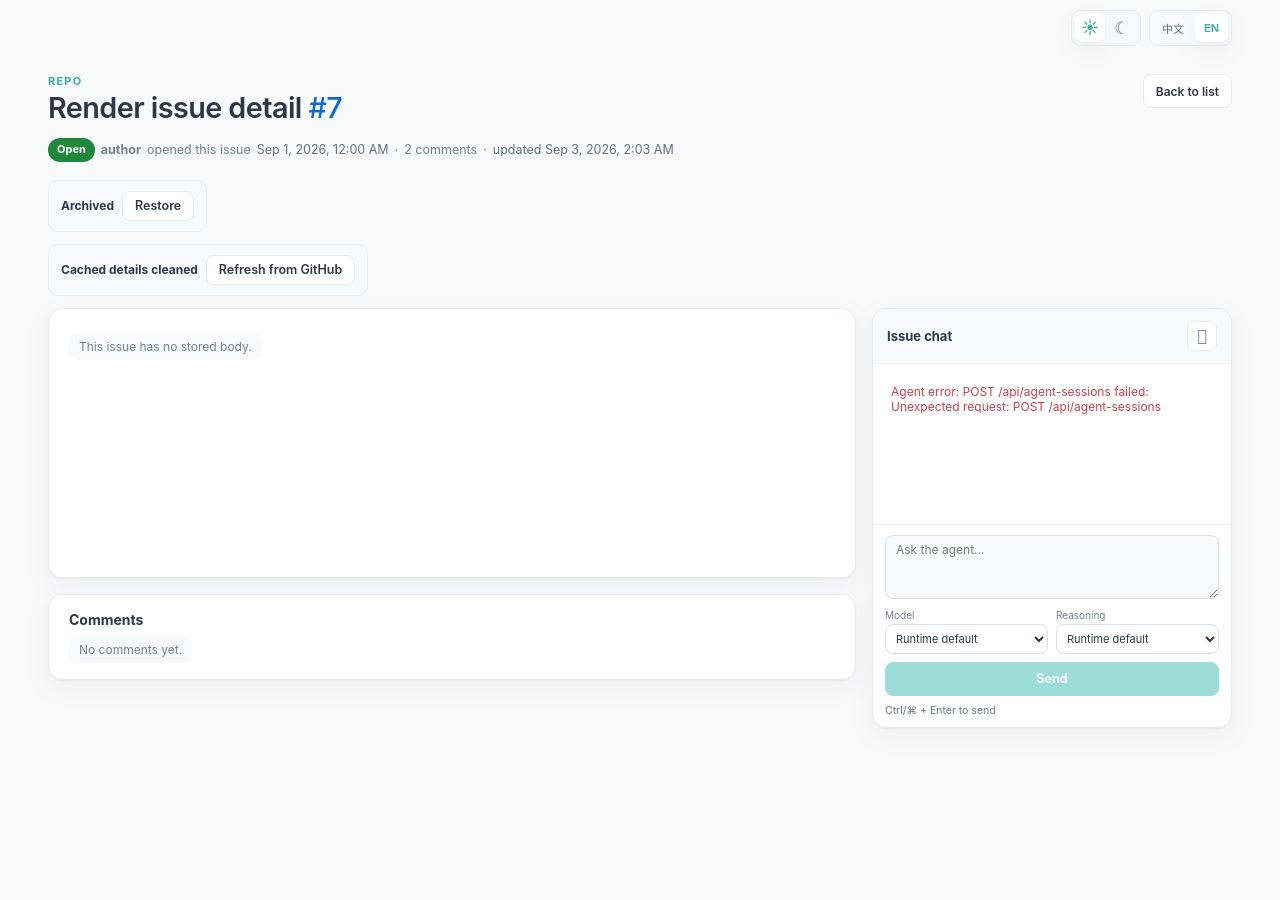
Test: Issue detail page › keeps archive and cleaned-payload actions independent
Expected: the heading "Render issue detail #7" is shown, [48, 90, 342, 125]
Expected: the text "Archived" is shown, [61, 198, 114, 214]
Click the button "Restore" at (158, 206), box [122, 191, 194, 221]
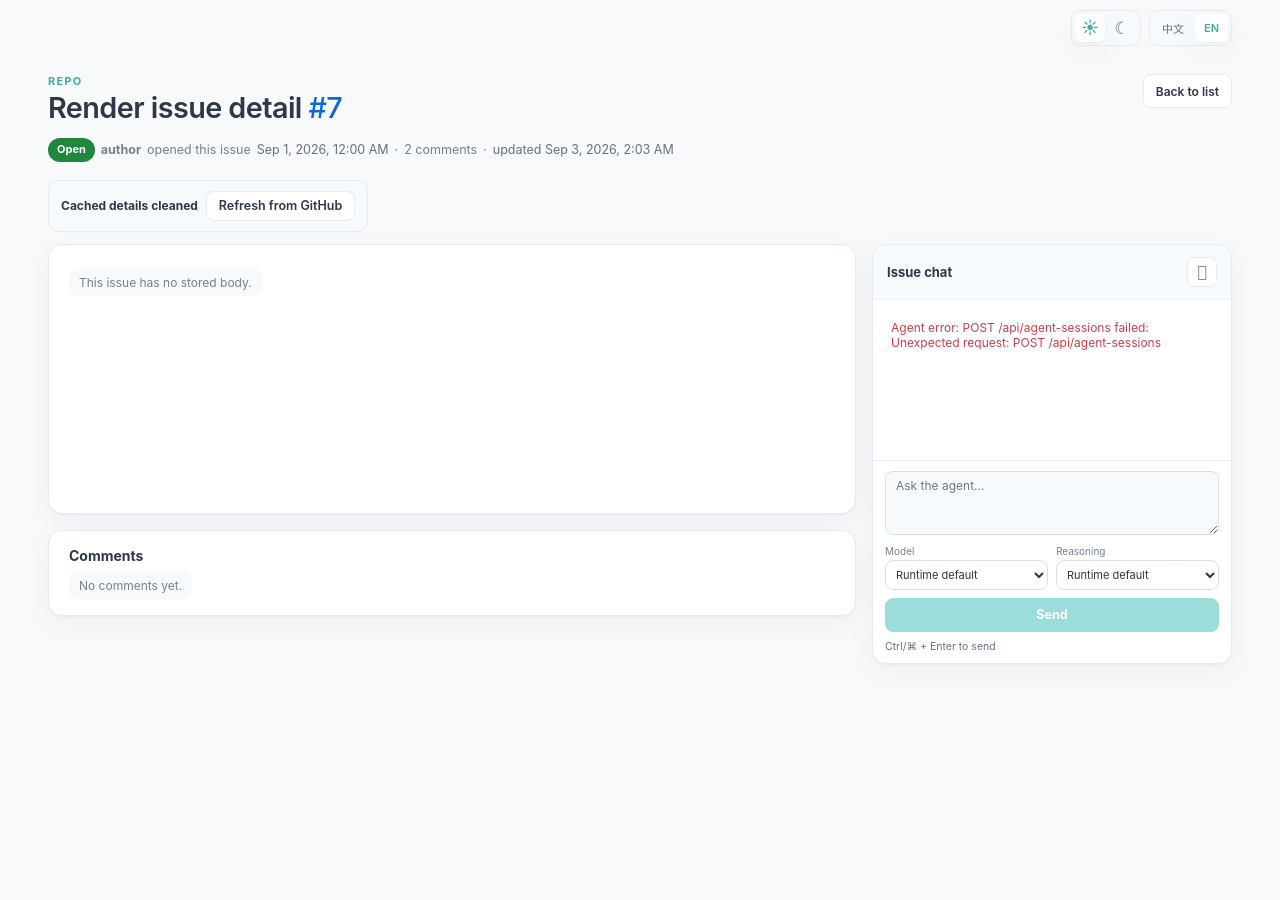
Expected: the text "Cached details cleaned" is shown, [61, 198, 198, 214]
Expected: the text "Archived" is gone
Click the button "Refresh from GitHub" at (281, 206), box [206, 191, 355, 221]
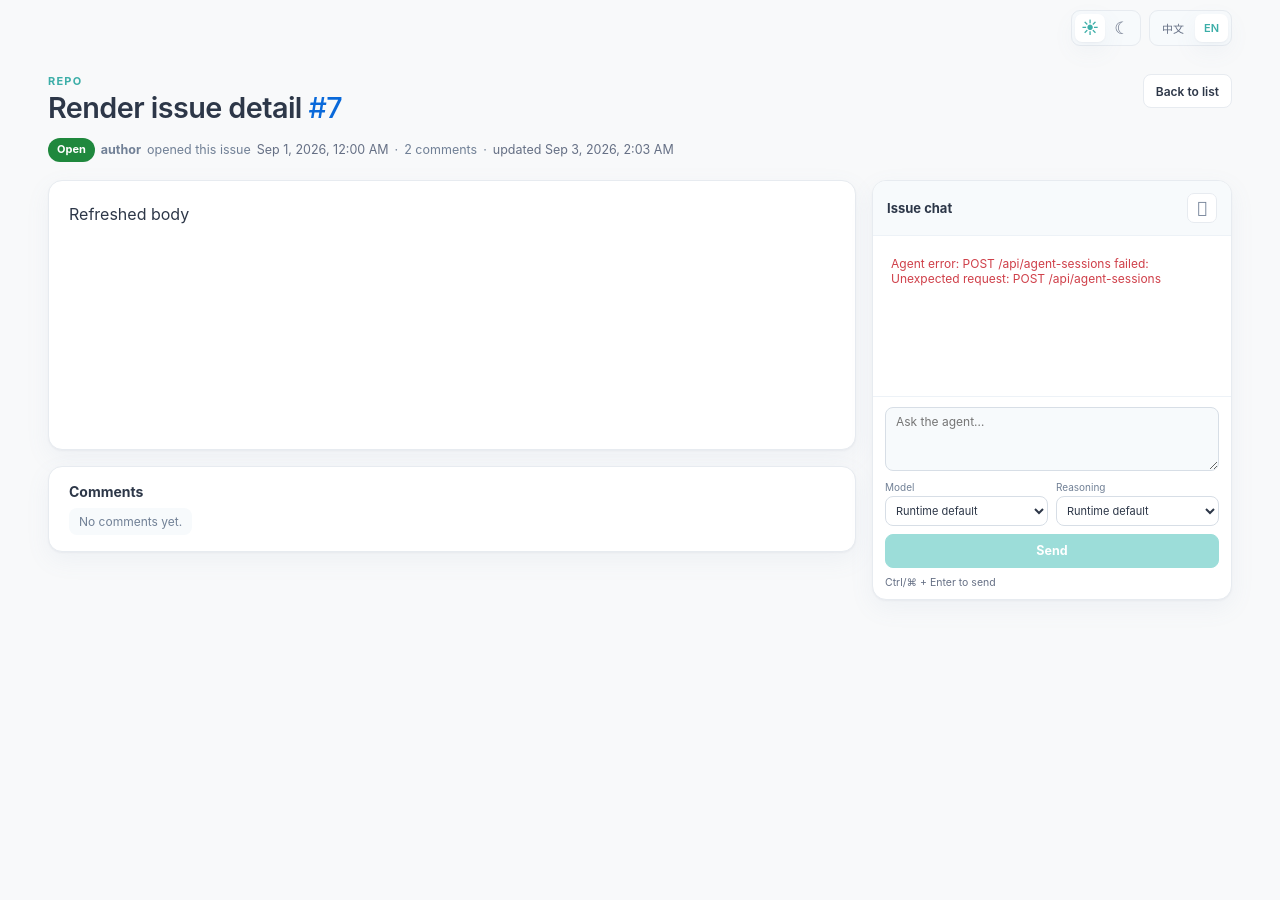
Expected: the text "Cached details cleaned" is gone
Expected: the text "Refreshed body" is shown, [69, 204, 189, 224]
